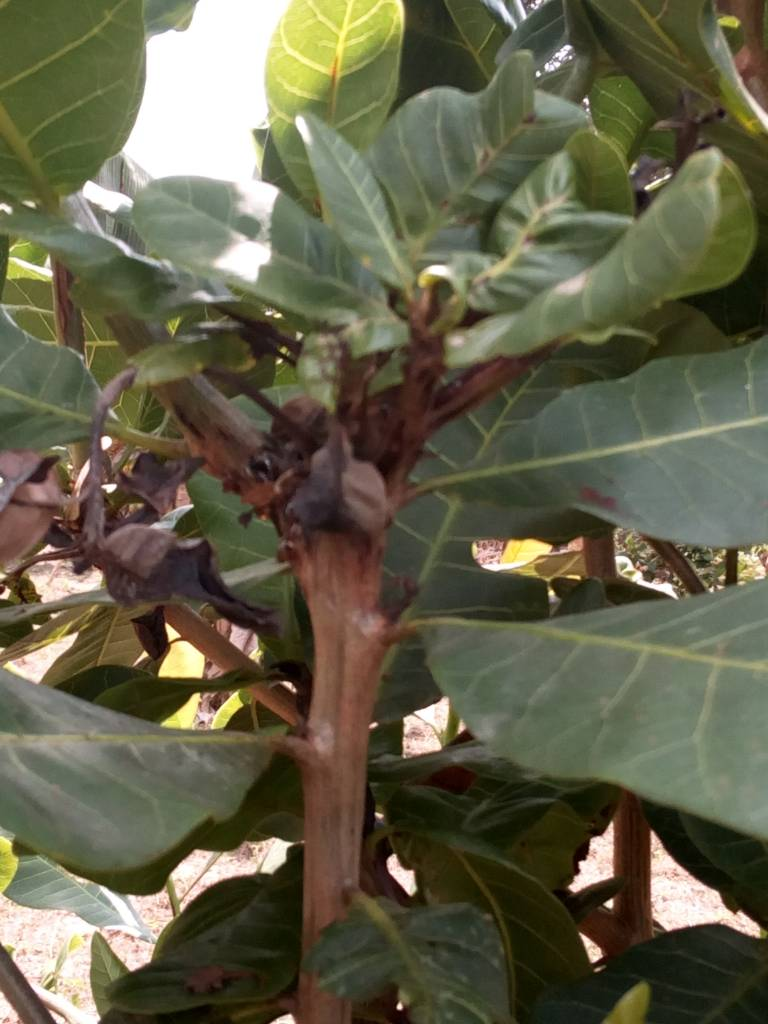Dessèchement des bourgeons: (16, 466, 199, 576), (325, 358, 442, 479)
